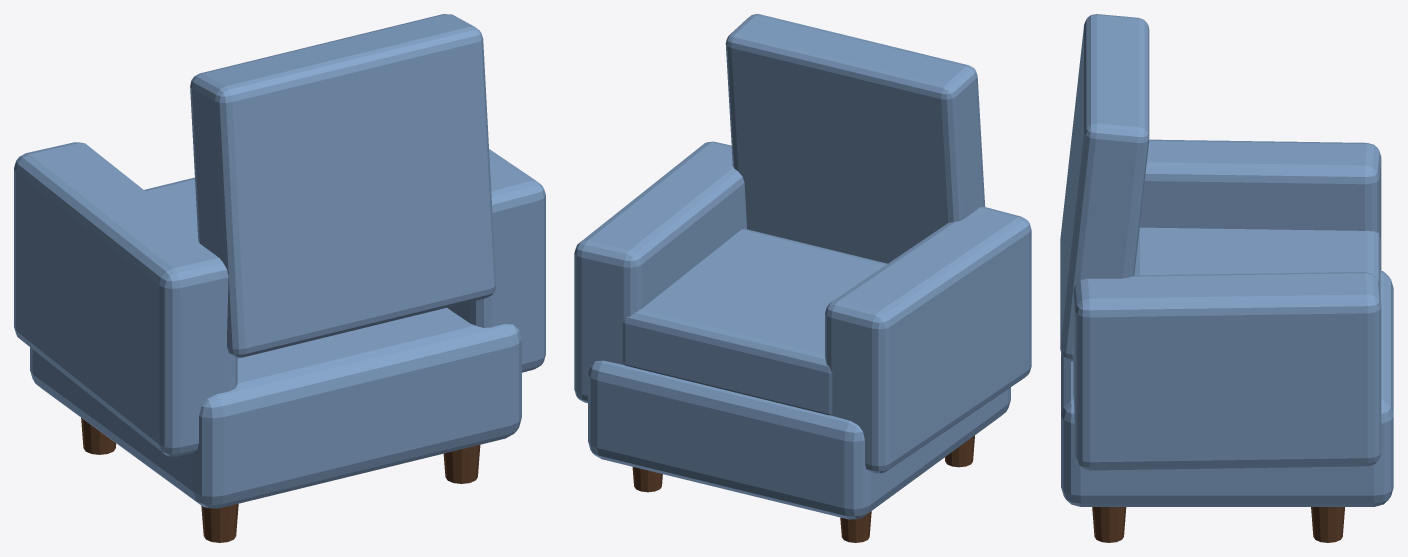
The model's file is lounge-armchair-v1.glb.
The picture shows the model from 3 angles, left to right: view 1: azimuth 30°, elevation 25°; view 2: azimuth 150°, elevation 25°; view 3: azimuth 270°, elevation 25°; orthographic projection. The views are drawn at different scales.
Visible parts, largest first — view 1: back-cushion, base, rounded-arm, rounded-arm.001, seat-cushion, short-foot, short-foot.002, short-foot.001; view 2: back-cushion, rounded-arm, base, seat-cushion, rounded-arm.001, short-foot.001, short-foot.003, short-foot; view 3: rounded-arm.001, rounded-arm, back-cushion, base, seat-cushion, short-foot.002, short-foot.003.
Boxes of the visible parts, <box> form: back-cushion: <box>190,14,496,357</box>; base: <box>30,308,521,508</box>; rounded-arm: <box>14,142,237,456</box>; rounded-arm.001: <box>447,149,545,372</box>; seat-cushion: <box>144,177,446,358</box>; short-foot: <box>201,503,238,542</box>; short-foot.002: <box>443,445,480,483</box>; short-foot.001: <box>81,418,116,454</box>; back-cushion: <box>725,14,985,263</box>; rounded-arm: <box>825,206,1031,473</box>; base: <box>588,360,1010,519</box>; seat-cushion: <box>622,228,887,415</box>; rounded-arm.001: <box>574,141,746,403</box>; short-foot.001: <box>840,511,871,542</box>; short-foot.003: <box>632,467,662,492</box>; short-foot: <box>945,435,974,467</box>; rounded-arm.001: <box>1073,272,1381,470</box>; rounded-arm: <box>1139,139,1381,270</box>; back-cushion: <box>1060,14,1149,361</box>; base: <box>1061,270,1393,506</box>; seat-cushion: <box>1134,227,1380,295</box>; short-foot.002: <box>1092,507,1126,542</box>; short-foot.003: <box>1311,507,1344,542</box>.
Bounding box in the file's own units: 0.9221 × 1.04 × 0.7619.
